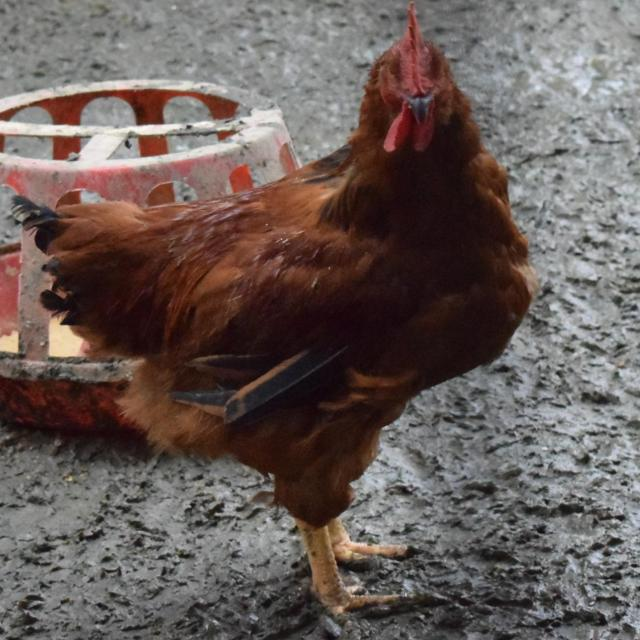cook: (14, 8, 536, 614)
